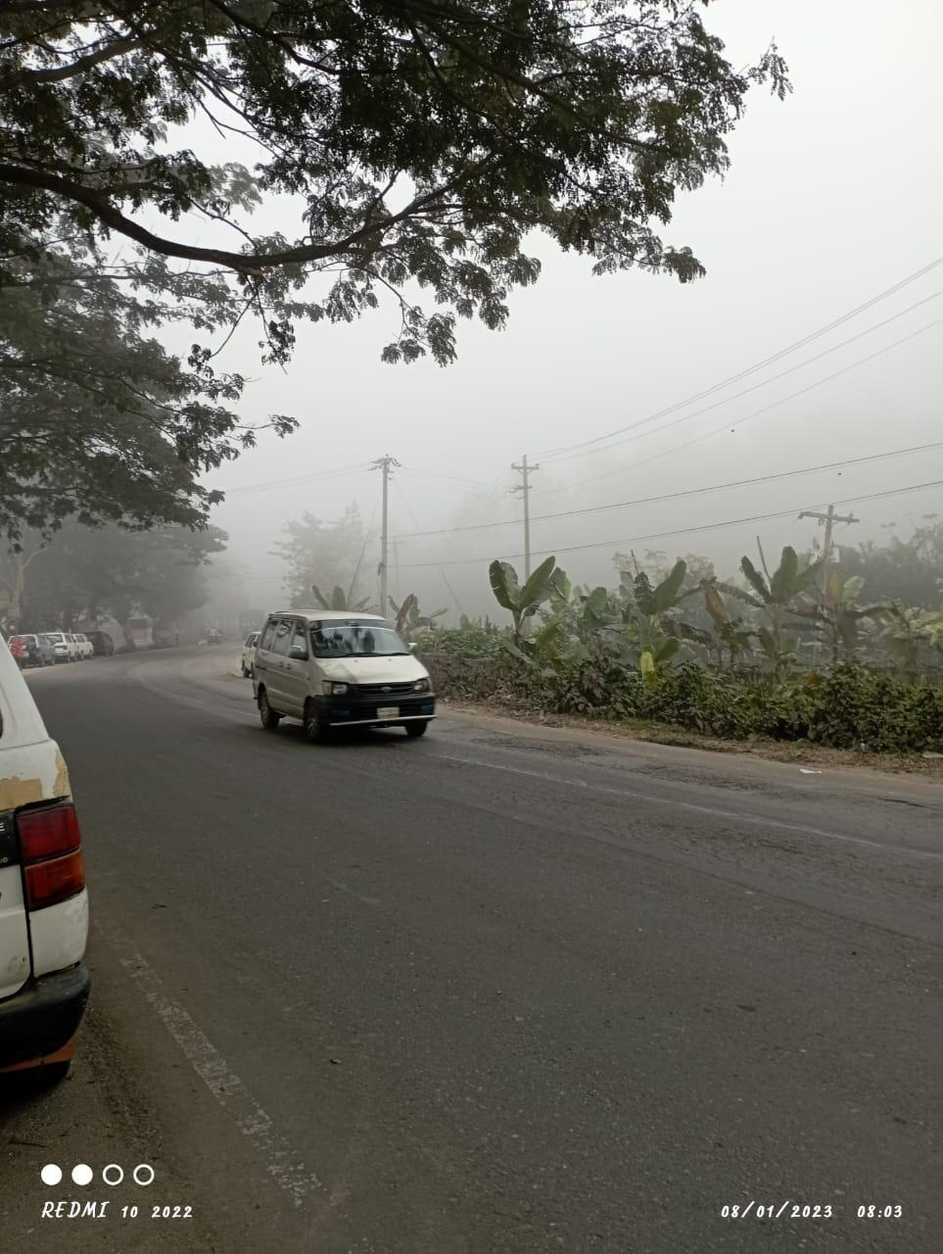Bus: (119, 603, 177, 647)
Car: (244, 603, 444, 753)
